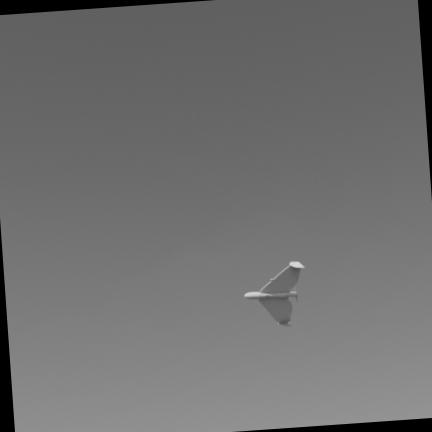Shahed: (244, 262, 303, 326)
